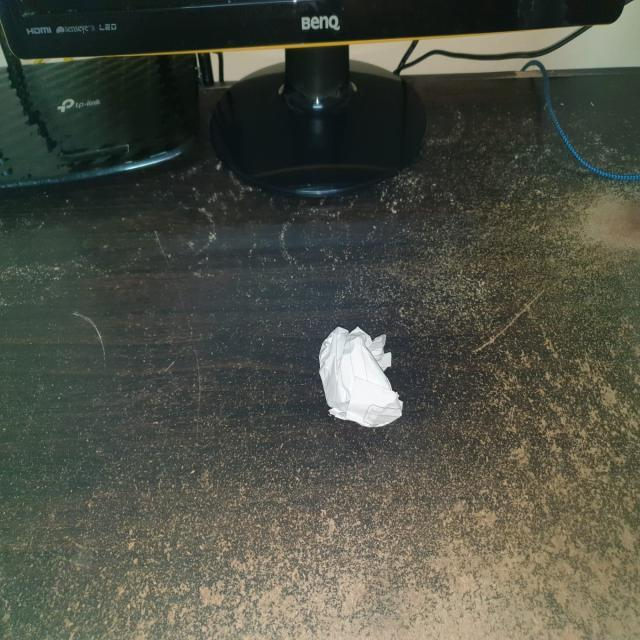Paper: (319, 327, 405, 425)
